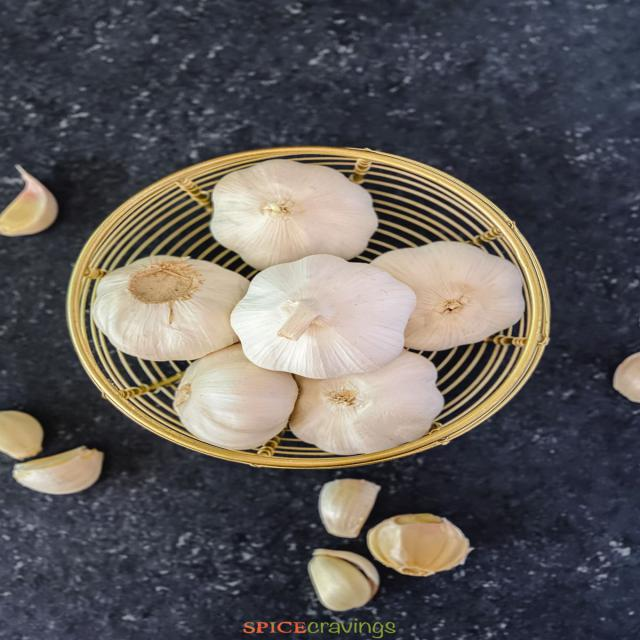garlic: (296, 477, 476, 616), (234, 255, 413, 375), (94, 257, 275, 364), (210, 156, 380, 268), (366, 240, 530, 352), (286, 349, 444, 451), (168, 346, 290, 452), (0, 409, 105, 496), (0, 172, 69, 239)
